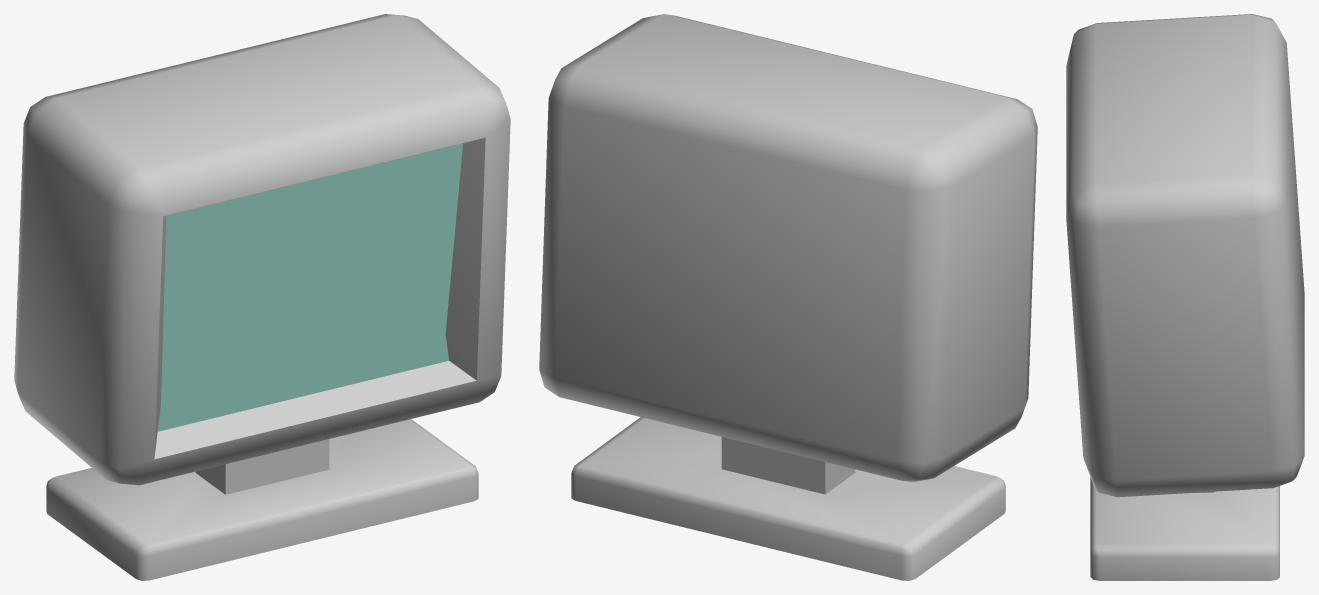
The model's file is Barcode-Reader-1.fbx.
3 renders of one model, left to right at view 1: azimuth 30°, elevation 25°; view 2: azimuth 150°, elevation 25°; view 3: azimuth 270°, elevation 25°, orthographic. The views are drawn at different scales.
Parts seen in each view (by area): view 1: Barcode-Reader-1; view 2: Barcode-Reader-1; view 3: Barcode-Reader-1.
Boxes of the visible parts, left/top/right/bottom form: Barcode-Reader-1: left=14, top=14, right=510, bottom=580; Barcode-Reader-1: left=539, top=14, right=1037, bottom=580; Barcode-Reader-1: left=1066, top=14, right=1304, bottom=580.
Bounding box in the file's own units: 0.2 × 0.2022 × 0.1077.
